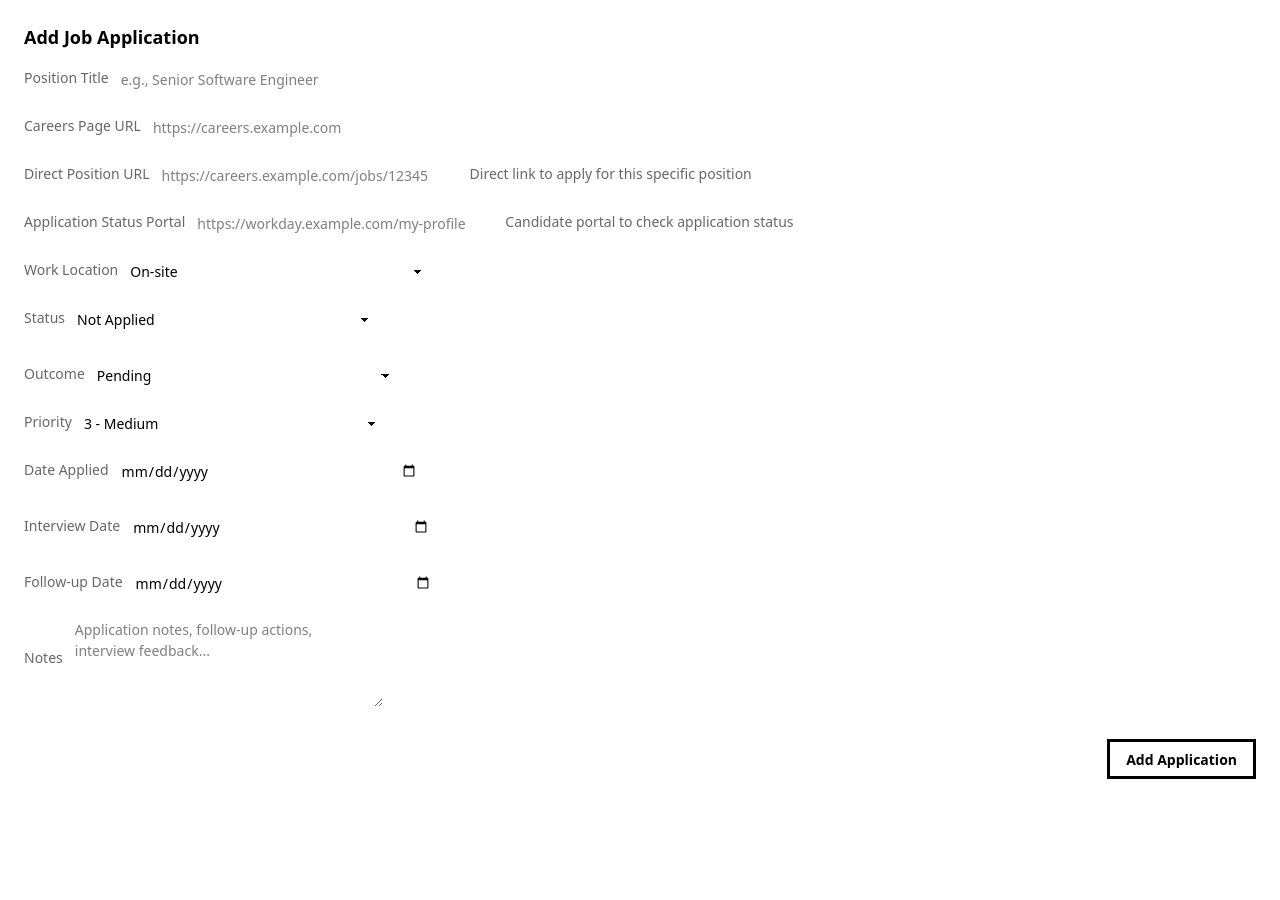
ApplicationForm › Error Handling › displays submit error
Click the button "Add Application" at (1182, 759), box [1107,739,1256,779]
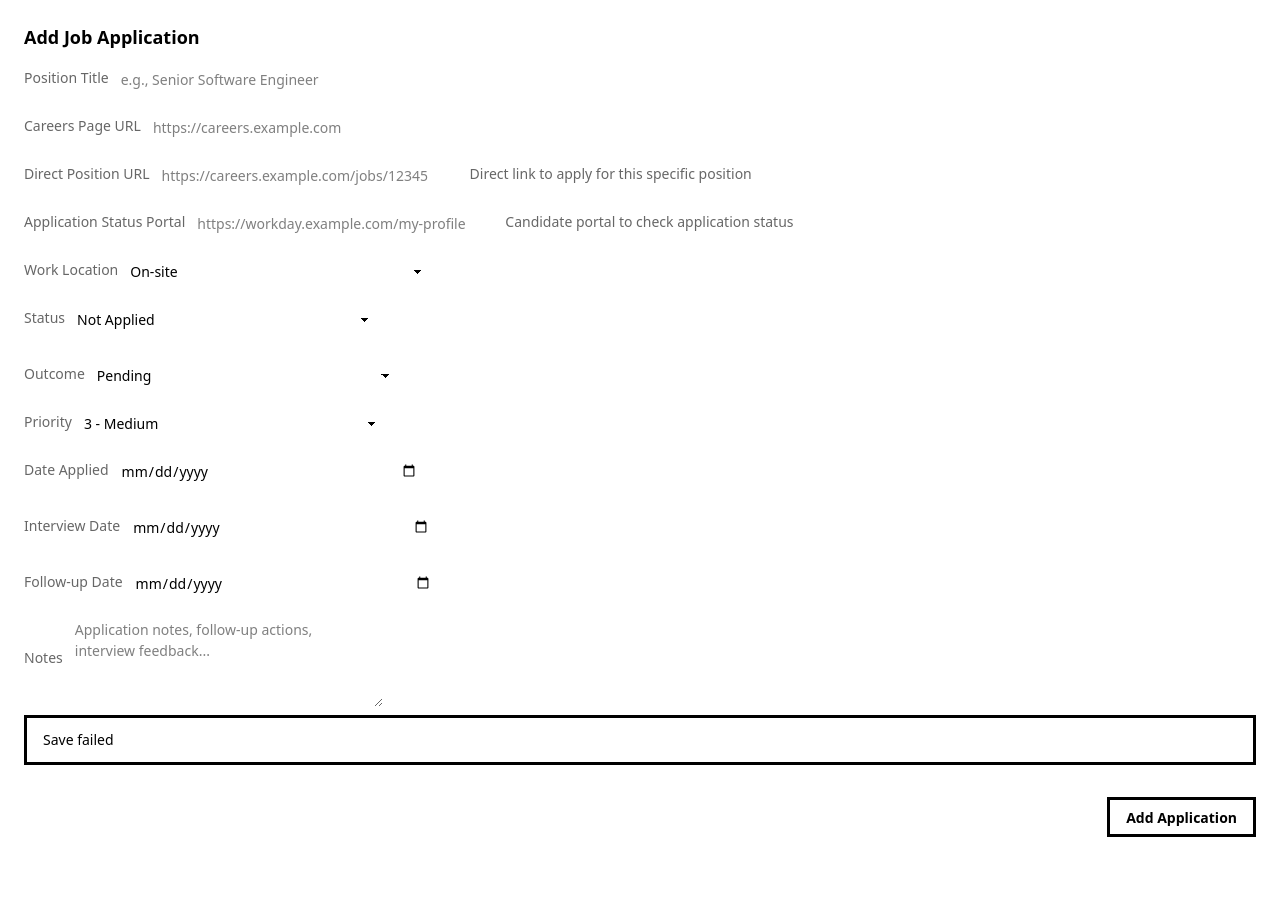
Check: the text "Save failed" is shown, box [43,730,114,750]
